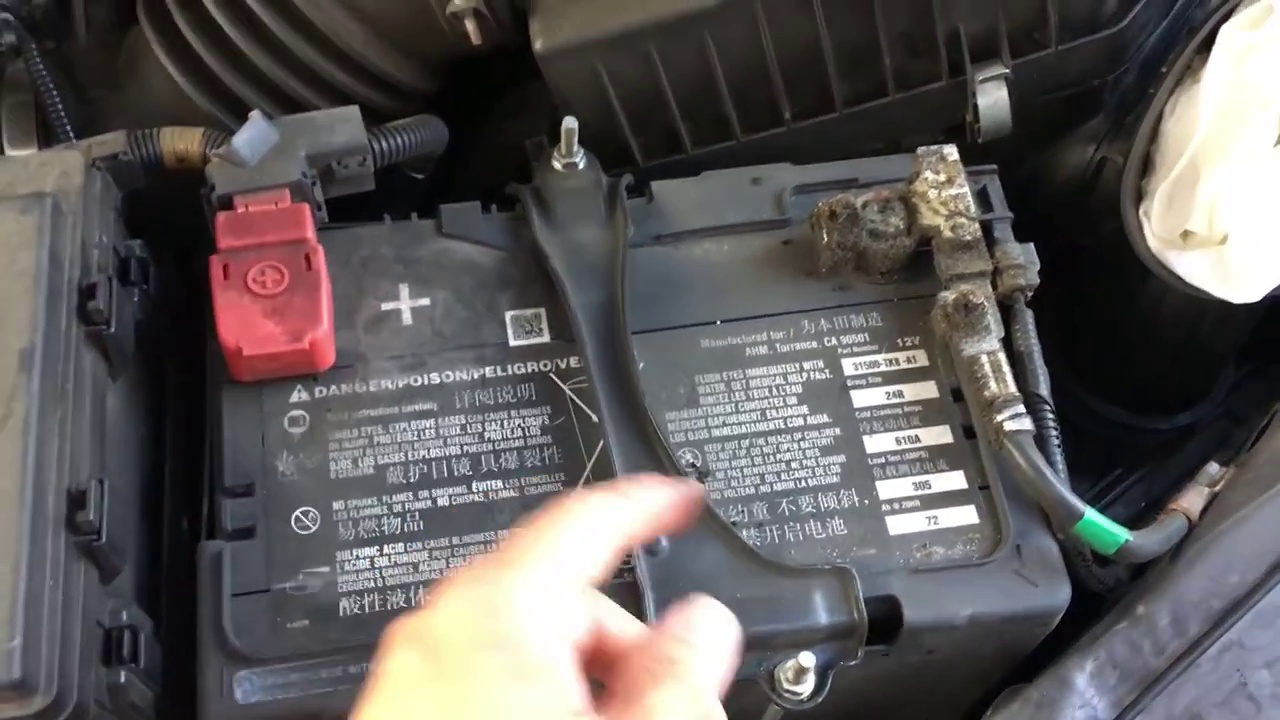battery: (177, 132, 1077, 666)
neg_connected: (796, 129, 1023, 347)
pos_connected: (121, 97, 411, 384)
